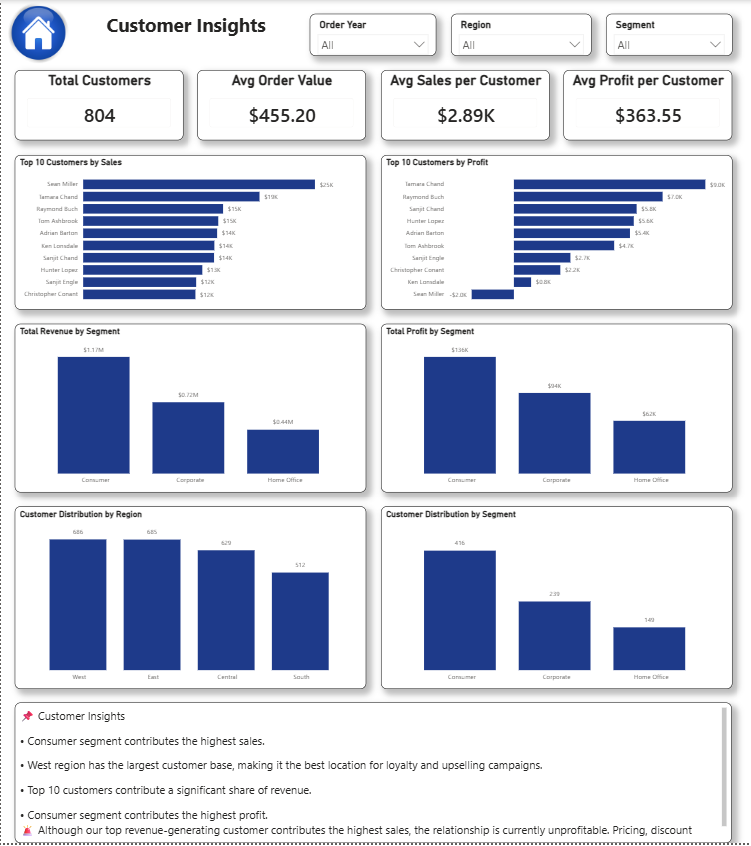

Layout of this report page (visuals, bound fields, positions):
{"tool":"powerbi","page":{"name":"Customer Insights","canvas":[1280,1440],"ordinal":2},"visuals":[{"type":"textbox","box":[176,16,320,64],"z":0},{"type":"slicer","fields":{"Values":["samplesuperstore.Order Year"]},"box":[528,24,216,72],"z":1000},{"type":"slicer","fields":{"Values":["samplesuperstore.Region"]},"box":[768,24,240,72],"z":2000},{"type":"slicer","fields":{"Values":["samplesuperstore.Segment"]},"box":[1032,24,216,72],"z":3000},{"type":"cardVisual","title":"Avg Order Value","fields":{"Data":["samplesuperstore.Average Order Value"]},"box":[336,120,288,120],"z":4000},{"type":"cardVisual","title":"Total Customers","fields":{"Data":["samplesuperstore.Total Customers"]},"box":[24,120,288,120],"z":5000},{"type":"cardVisual","title":"Avg Sales per Customer","fields":{"Data":["samplesuperstore.Avg Sales per Customer"]},"box":[648,120,288,120],"z":6000},{"type":"cardVisual","title":"Avg Profit per Customer","fields":{"Data":["samplesuperstore.Avg Profit per Customer"]},"box":[960,120,288,120],"z":7000},{"type":"barChart","title":"Top 10 Customers by Sales","fields":{"Y":["Sum(samplesuperstore.Sales)"],"Category":["samplesuperstore.Customer Name"]},"box":[24,264,600,264],"z":8000},{"type":"barChart","title":"Top 10 Customers by Profit","fields":{"Category":["samplesuperstore.Customer Name"],"Y":["Sum(samplesuperstore.Profit)"]},"box":[648,264,600,264],"z":9000},{"type":"columnChart","title":"Total Revenue by Segment","fields":{"Y":["Sum(samplesuperstore.Sales)"],"Category":["samplesuperstore.Segment"]},"box":[24,552,600,288],"z":10000},{"type":"columnChart","title":"Total Profit by Segment","fields":{"Y":["Sum(samplesuperstore.Profit)"],"Category":["samplesuperstore.Segment"]},"box":[648,552,600,288],"z":11000},{"type":"columnChart","title":"Customer Distribution by Region","fields":{"Category":["samplesuperstore.Region"],"Y":["Count(samplesuperstore.Customer ID)"]},"box":[24,864,600,312],"z":12000},{"type":"columnChart","title":"Customer Distribution by Segment","fields":{"Y":["Count(samplesuperstore.Customer ID)"],"Category":["samplesuperstore.Segment"]},"box":[648,864,600,312],"z":13000},{"type":"textbox","box":[24,1200,1224,240],"z":14000},{"type":"image","box":[0,0,128,112],"z":14001}]}

Visuals, with their boxes in screenshot pixels (x1, y1, x2, y2), scaled from the page's 1280x1440 canvas onto the 751x846 screenshot:
textbox: left=103, top=9, right=291, bottom=47
slicer - samplesuperstore.Order Year: left=310, top=14, right=437, bottom=56
slicer - samplesuperstore.Region: left=451, top=14, right=591, bottom=56
slicer - samplesuperstore.Segment: left=605, top=14, right=732, bottom=56
"Avg Order Value" cardVisual: left=197, top=70, right=366, bottom=141
"Total Customers" cardVisual: left=14, top=70, right=183, bottom=141
"Avg Sales per Customer" cardVisual: left=380, top=70, right=549, bottom=141
"Avg Profit per Customer" cardVisual: left=563, top=70, right=732, bottom=141
"Top 10 Customers by Sales" barChart: left=14, top=155, right=366, bottom=310
"Top 10 Customers by Profit" barChart: left=380, top=155, right=732, bottom=310
"Total Revenue by Segment" columnChart: left=14, top=324, right=366, bottom=494
"Total Profit by Segment" columnChart: left=380, top=324, right=732, bottom=494
"Customer Distribution by Region" columnChart: left=14, top=508, right=366, bottom=691
"Customer Distribution by Segment" columnChart: left=380, top=508, right=732, bottom=691
textbox: left=14, top=705, right=732, bottom=845
image: left=0, top=0, right=75, bottom=66
